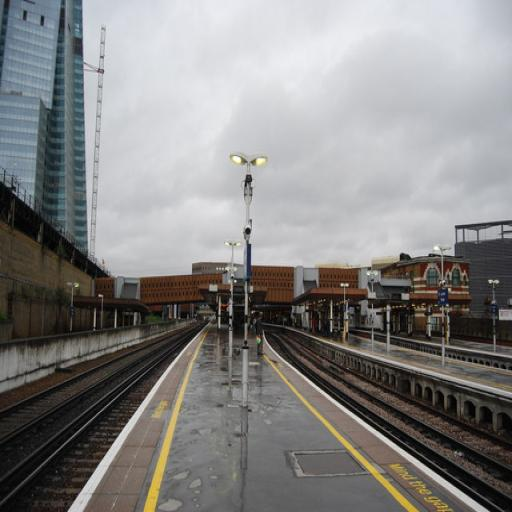platform_edge: (71, 326, 207, 506), (290, 423, 510, 512)
